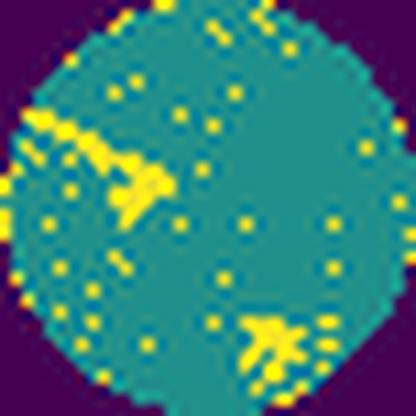Loc: (25, 107, 176, 228), (239, 310, 306, 397)
